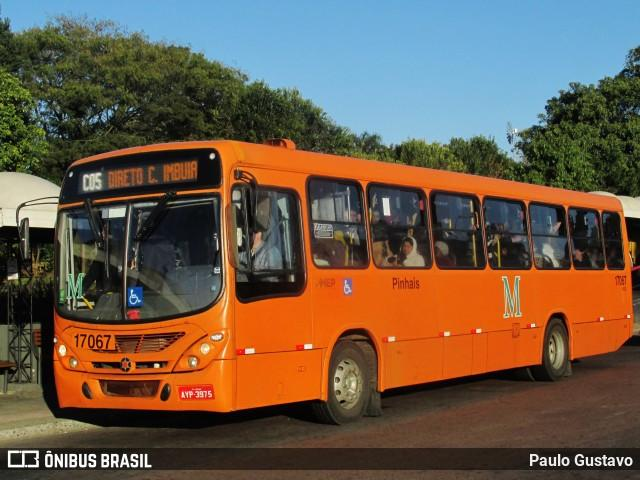C. IMBUIA: (145, 158, 201, 189)
